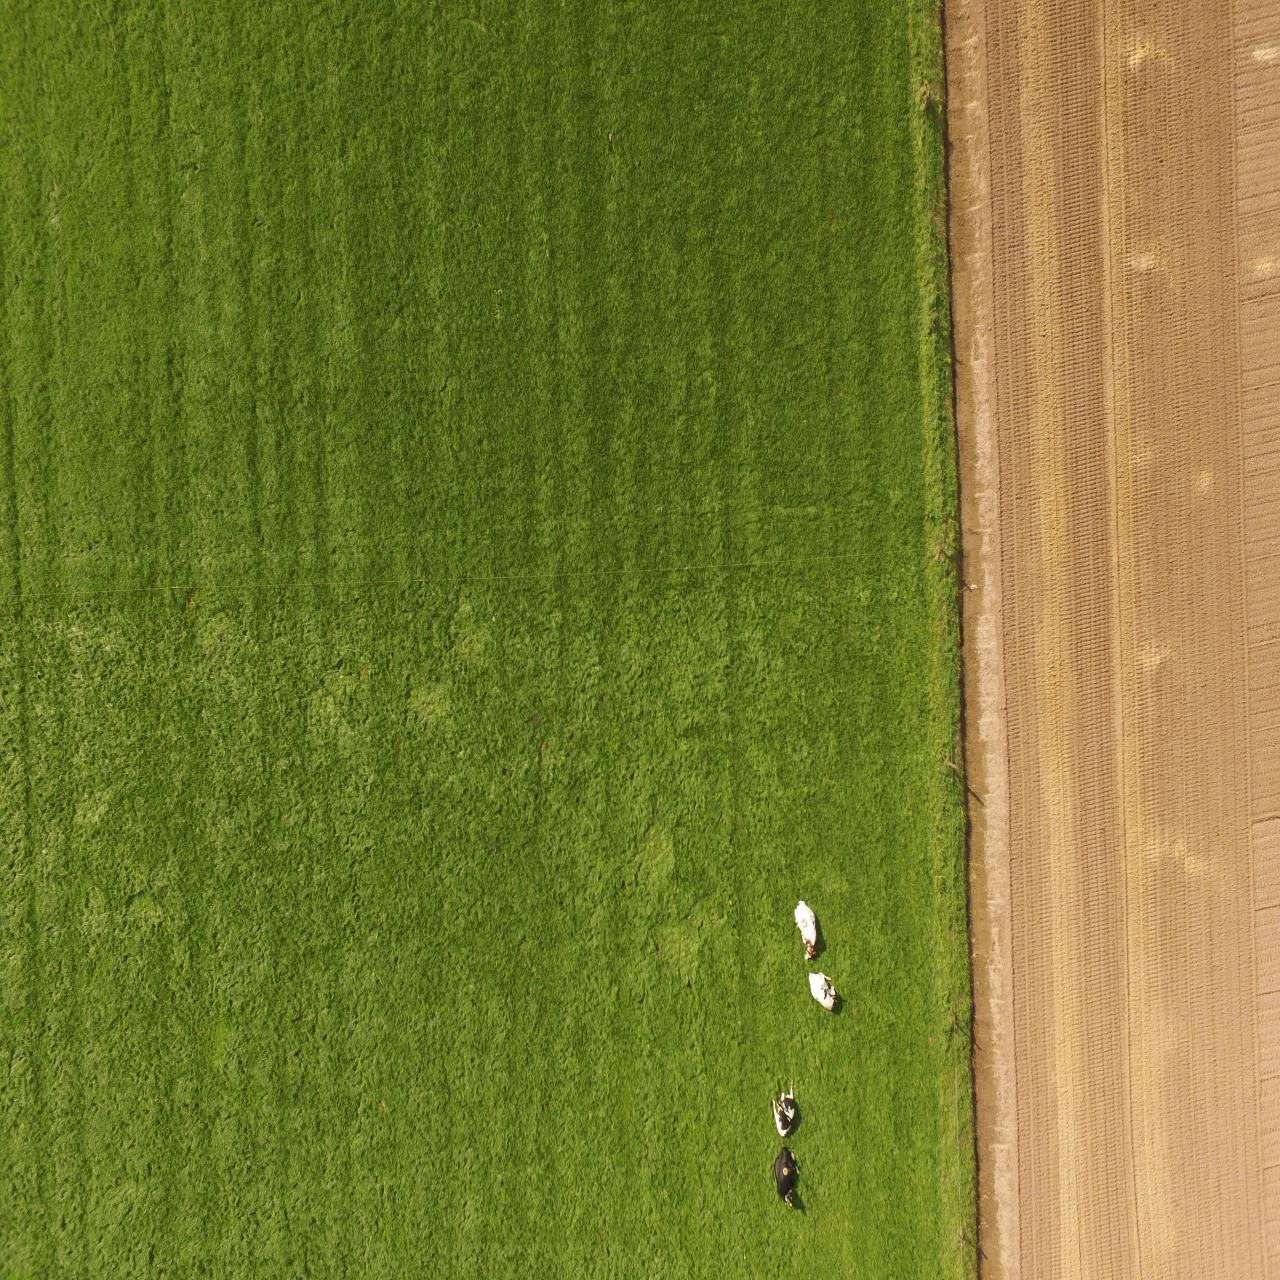cow: (789, 895, 823, 963), (770, 1142, 803, 1210), (768, 1078, 802, 1140), (804, 967, 840, 1015)
